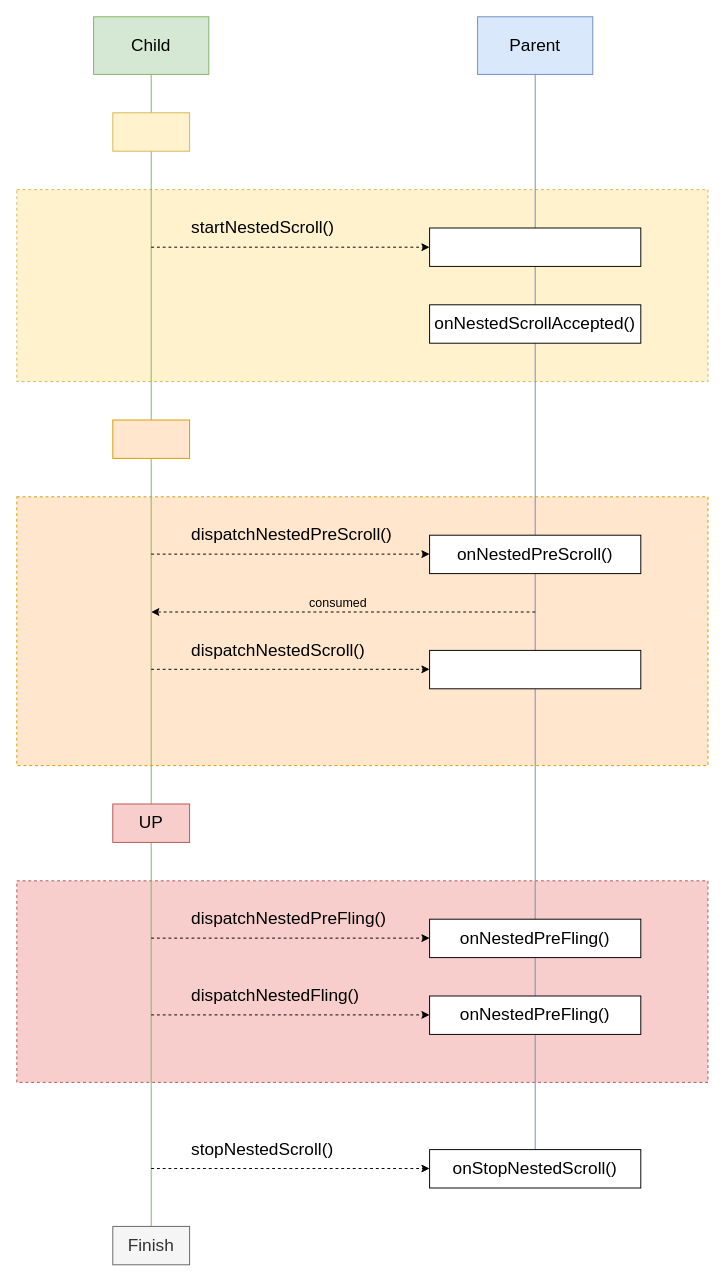
Some shapes in this 725 by 1282 pixel diagram are drawn without their labels. The centre of each missing label's shape, as x and y in pixels:
"DOWN" goes at point 151,131.
"MOVE" goes at point 151,438.
"onNestedScroll()" goes at point 535,669.
"onStartNestedScroll()" goes at point 535,246.
